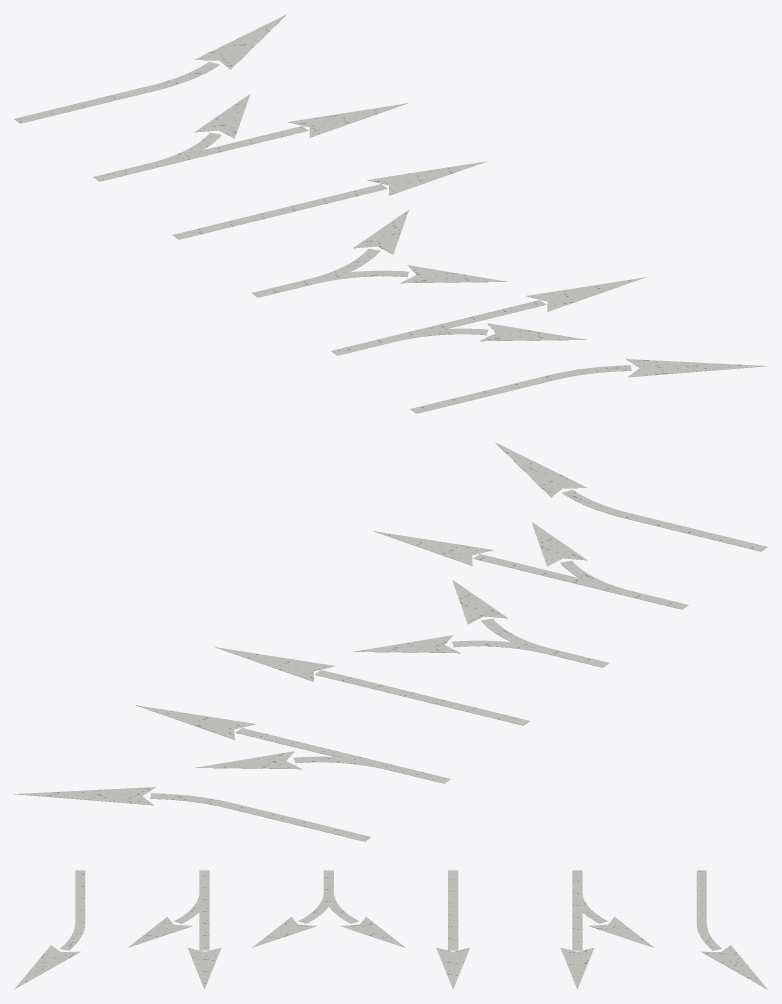
File: direction-arrow.glb
The picture shows the model from 3 angles, top to bottom: view 1: azimuth 30°, elevation 25°; view 2: azimuth 150°, elevation 25°; view 3: azimuth 270°, elevation 25°; orthographic projection. The views are drawn at different scales.
Parts seen in each view (by area): view 1: direction-arrow_straight_right, direction-arrow_straight_left, direction-arrow_left_right, direction-arrow_right, direction-arrow_left, direction-arrow_straight; view 2: direction-arrow_straight_left, direction-arrow_straight_right, direction-arrow_left_right, direction-arrow_left, direction-arrow_right, direction-arrow_straight; view 3: direction-arrow_straight_left, direction-arrow_straight_right, direction-arrow_left_right, direction-arrow_left, direction-arrow_right, direction-arrow_straight.
Boxes of the visible parts, x1=… form: direction-arrow_straight_right: x1=331, y1=277, x2=645, y2=355; direction-arrow_straight_left: x1=93, y1=94, x2=407, y2=181; direction-arrow_left_right: x1=252, y1=210, x2=507, y2=297; direction-arrow_right: x1=410, y1=359, x2=767, y2=413; direction-arrow_left: x1=14, y1=14, x2=286, y2=123; direction-arrow_straight: x1=173, y1=161, x2=486, y2=239; direction-arrow_straight_left: x1=136, y1=705, x2=450, y2=783; direction-arrow_straight_right: x1=374, y1=522, x2=688, y2=609; direction-arrow_left_right: x1=354, y1=580, x2=608, y2=667; direction-arrow_left: x1=14, y1=787, x2=371, y2=841; direction-arrow_right: x1=495, y1=442, x2=767, y2=551; direction-arrow_straight: x1=215, y1=647, x2=529, y2=725; direction-arrow_straight_left: x1=560, y1=870, x2=654, y2=989; direction-arrow_straight_right: x1=127, y1=870, x2=221, y2=989; direction-arrow_left_right: x1=252, y1=870, x2=405, y2=947; direction-arrow_left: x1=696, y1=870, x2=767, y2=989; direction-arrow_right: x1=14, y1=870, x2=85, y2=989; direction-arrow_straight: x1=436, y1=870, x2=469, y2=989.
Size of the model in its own units: 5 by 0.003 by 13.35.
1 material, 1 textured.
